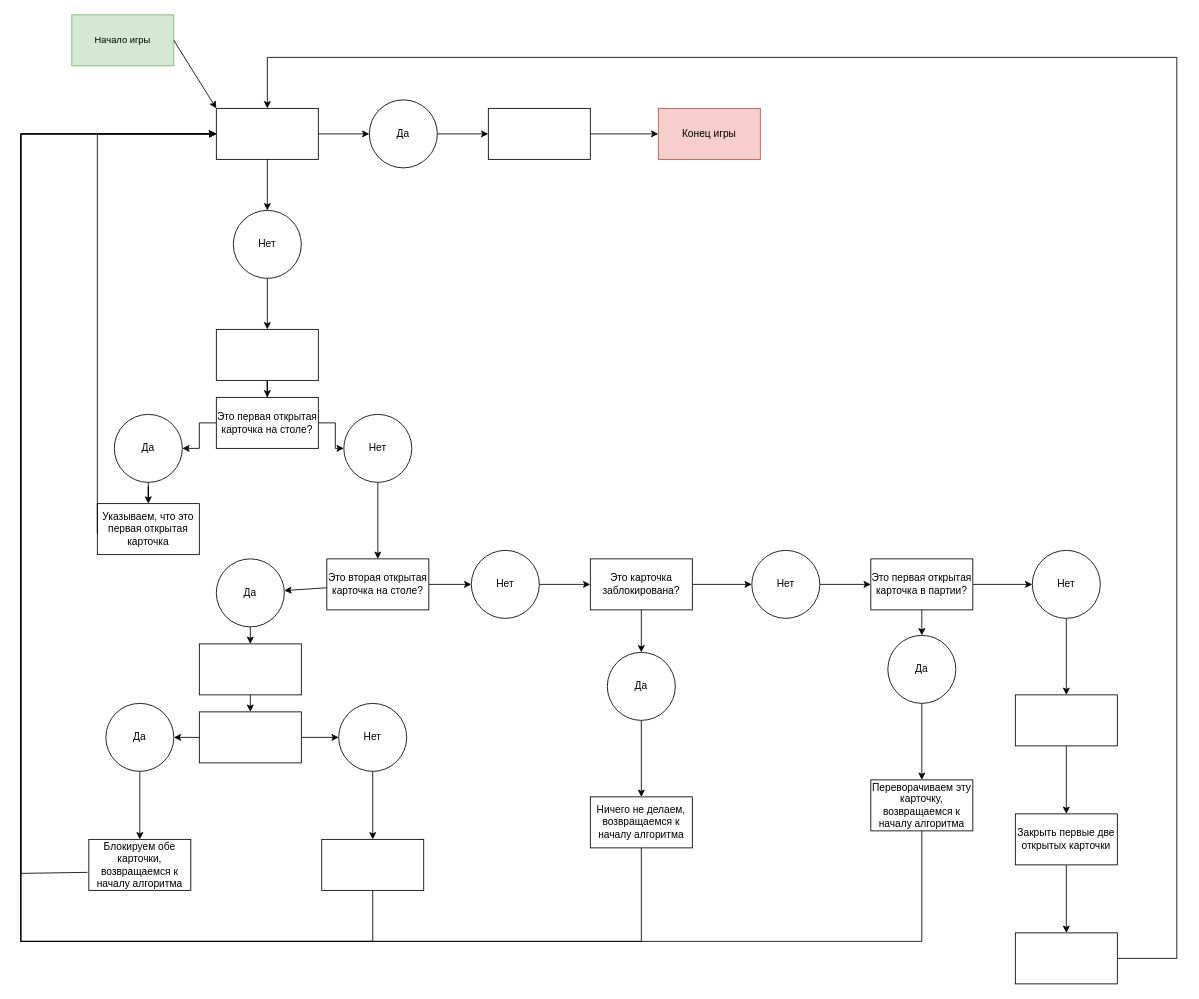
Some shapes in this 1199 by 999 pixel diagram are drawn without their labels. The shapes that lost their labels are listed below. From the top down, each one's centre as x and y in pixels, then its label:
At point 266,133: "Все карточки на столе перевернуты?".
At point 538,133: "Высвечиваем сообщение о победе".
At point 266,354: "Переворачиваем карточку".
At point 249,669: "Указываем, что это вторая открытая карточка".
At point 249,737: "Эта карточка одинаковая по цвету с первой открытой карточкой?".
At point 1065,720: "Это третья открытая карточка".
At point 372,864: "Переворачиваем обе карточки рубашкой вверх, возвращаемся к началу алгоритма".
At point 1065,958: "Вернуться к началу алгоритма".
